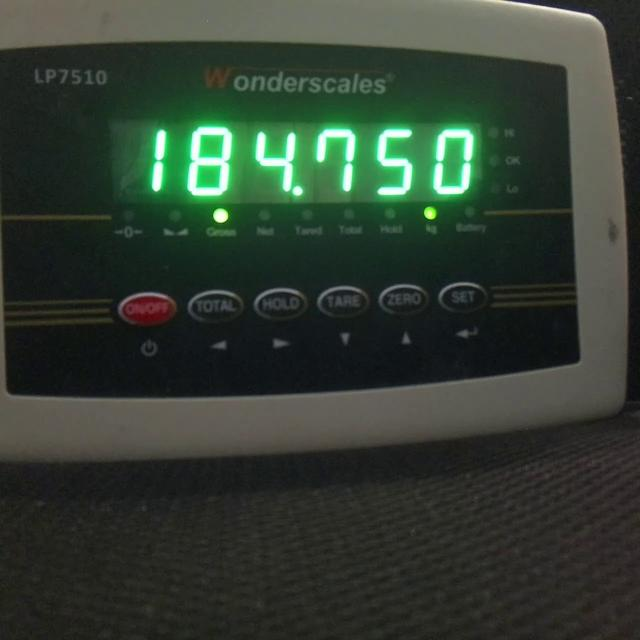.: (291, 184, 304, 198)
0: (433, 128, 473, 195)
1: (150, 129, 167, 192)
4: (255, 129, 297, 194)
5: (374, 127, 414, 195)
7: (315, 119, 356, 201)
8: (186, 125, 233, 196)
